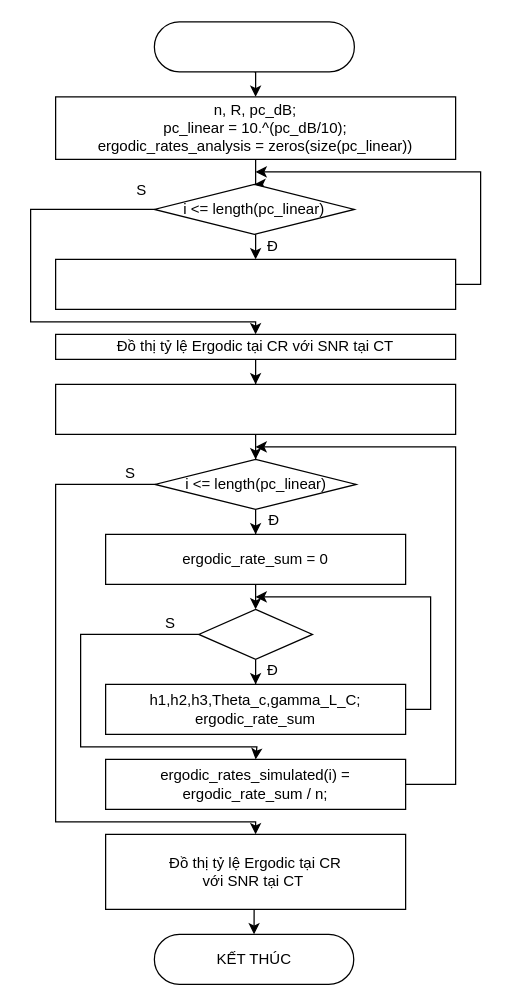
Image size: 513x1006. Some labels were removed from this diagram. Each missing label, with the centre of its shape:
"BẮT ĐẦU" belongs at pixel 253 46.
"Ec, Ec2,kc, thetac. ergodic_rates_analysis(i)" belongs at pixel 255 283.
"j <= n" belongs at pixel 255 633.
"pc_linear = 10.^(pc_dB/10); ergodic_rates_simulated = zeros(size(pc_linear));" belongs at pixel 255 408.
